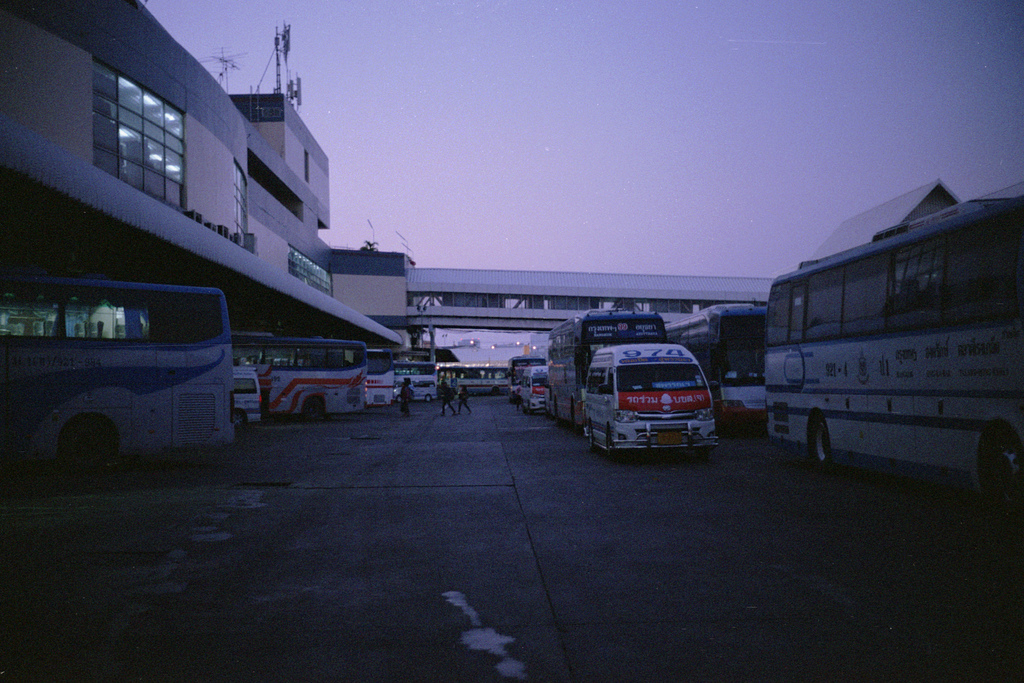Bus: (0, 193, 1023, 518)
